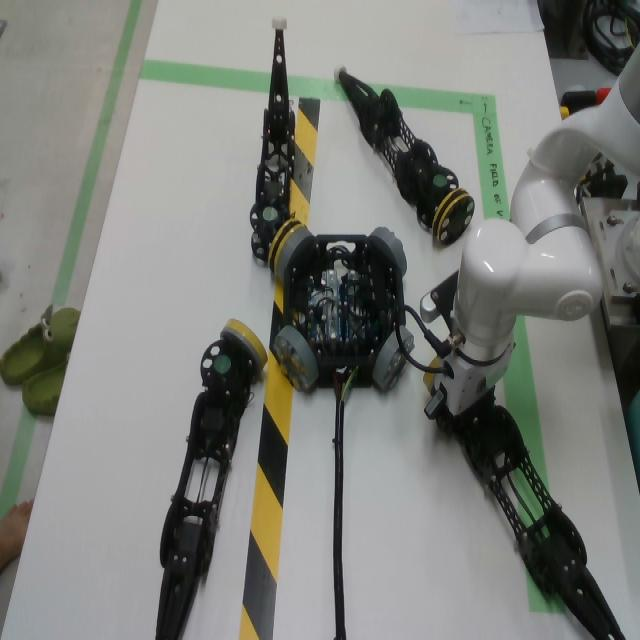body: (284, 235, 406, 388)
body_connector: (273, 325, 319, 391), (372, 329, 408, 392), (277, 227, 314, 280), (369, 227, 407, 277), (400, 325, 415, 353)
gripper: (425, 343, 516, 437)
leg: (454, 395, 627, 640), (154, 319, 268, 640), (333, 64, 475, 248), (249, 16, 302, 273), (423, 372, 437, 397), (428, 355, 445, 369)
leg_connector: (220, 319, 268, 372), (432, 188, 475, 247), (268, 219, 304, 273), (423, 372, 437, 399), (429, 355, 444, 368)
leg_marker: (214, 355, 230, 375), (263, 207, 278, 221), (433, 175, 447, 187)
